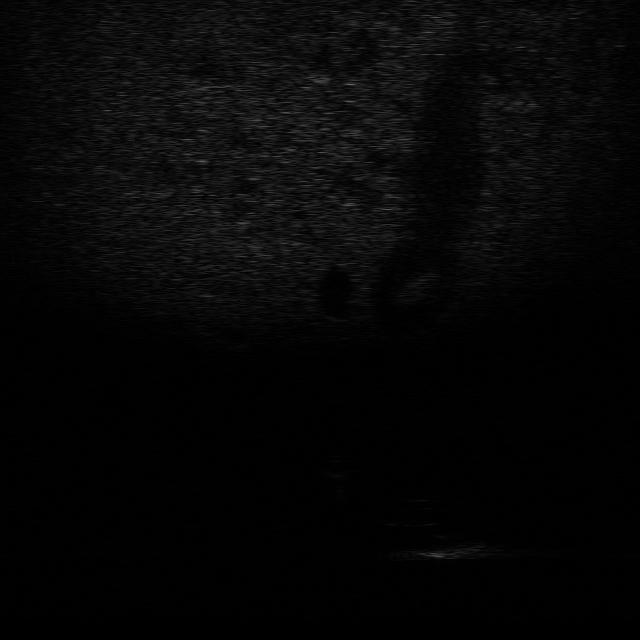ball: (312, 452, 358, 482)
metal bucket: (388, 535, 512, 564)
tyre: (379, 495, 455, 528)
